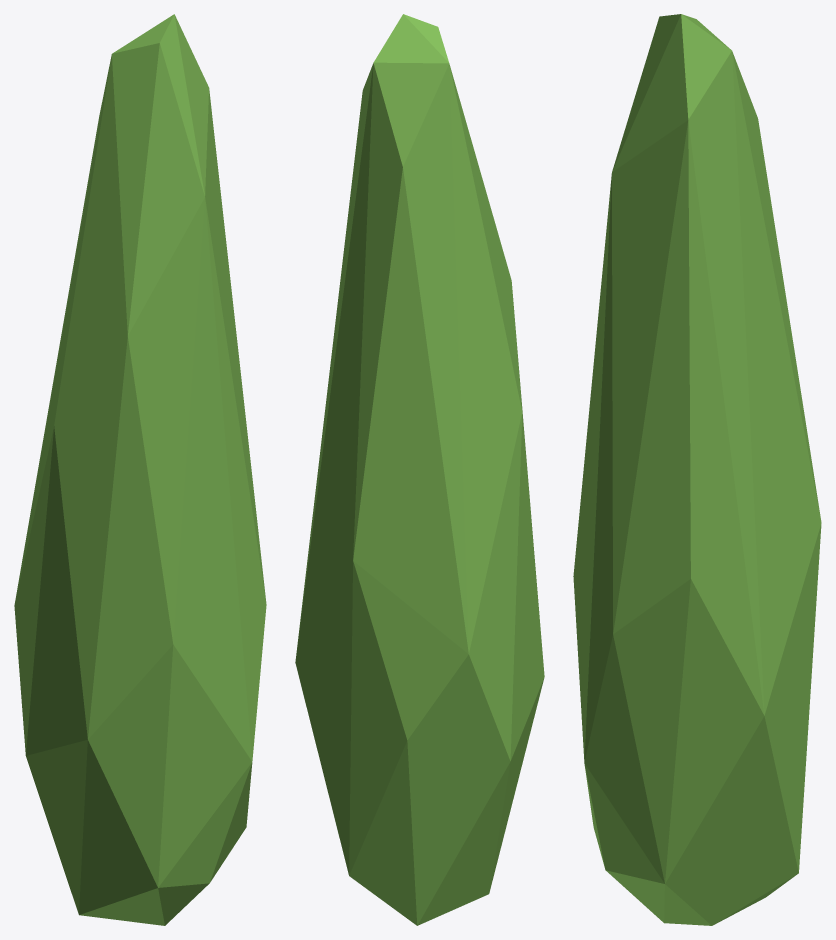
The model's file is Thuja_BushTree_m_04.fbx.
3 renders of one model, left to right at view 1: azimuth 30°, elevation 25°; view 2: azimuth 150°, elevation 25°; view 3: azimuth 270°, elevation 25°, orthographic. The views are drawn at different scales.
Visible parts, largest first — view 1: Thuja_BushTree_m_04; view 2: Thuja_BushTree_m_04; view 3: Thuja_BushTree_m_04.
Part boxes in pixels (box(x1,y1,x2,y2)): Thuja_BushTree_m_04: box(14, 14, 266, 925); Thuja_BushTree_m_04: box(295, 14, 544, 925); Thuja_BushTree_m_04: box(573, 14, 821, 925).
Size of the model in its own units: 105 by 434 by 106.
